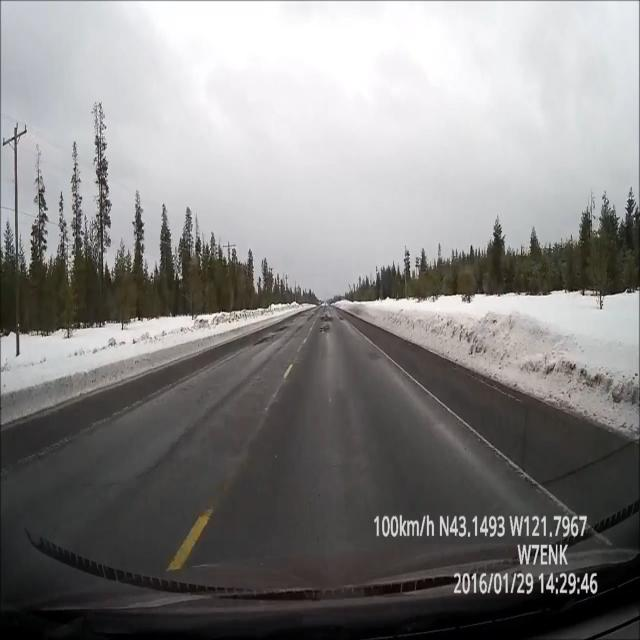Pothole: (319, 307, 339, 339)
